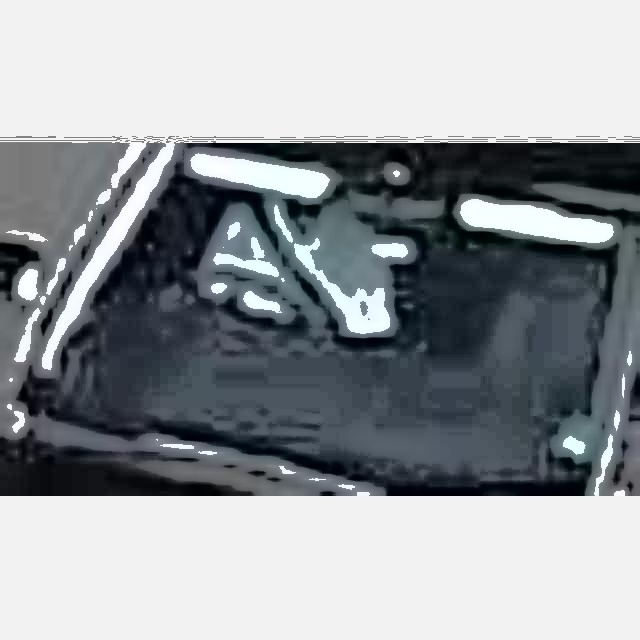pakai: (213, 190, 393, 363)
